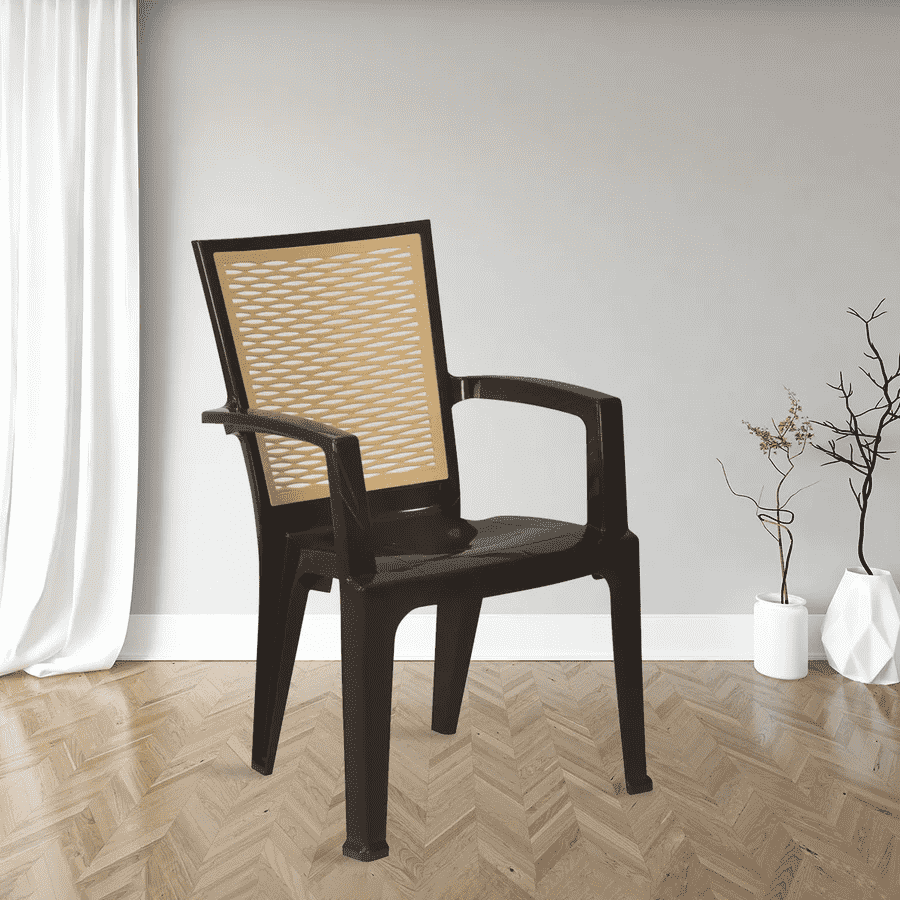chair: (184, 214, 673, 850)
